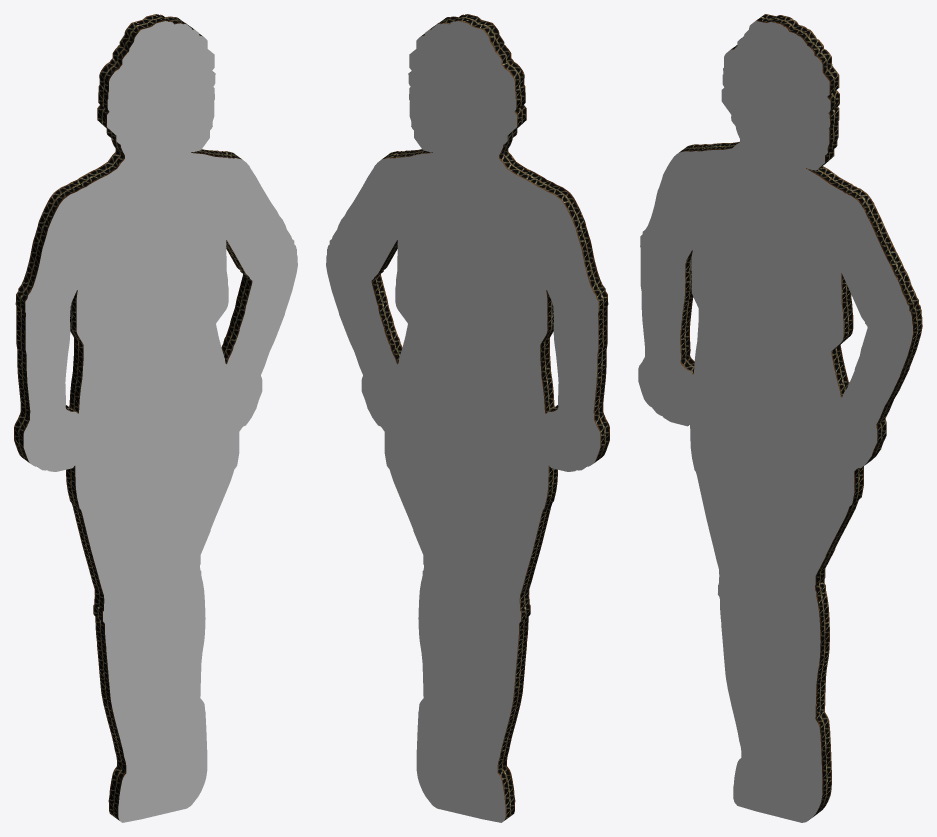
The model's file is NPC_Cafe_worker_waitingRoom.FBX.
3 views of the same model, side by side, from view 1: azimuth 30°, elevation 25°; view 2: azimuth 150°, elevation 25°; view 3: azimuth 330°, elevation 25° (orthographic).
Visible parts, largest first — view 1: NPC_7_step2; view 2: NPC_7_step2; view 3: NPC_7_step2.
Boxes of the visible parts, <box> form: NPC_7_step2: <box>14,14,297,822</box>; NPC_7_step2: <box>326,14,609,822</box>; NPC_7_step2: <box>638,14,922,822</box>.
Size of the model in its own units: 24.61 by 67.96 by 1.48.
